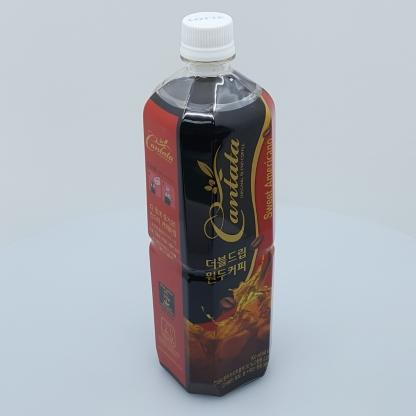-----------900ML: (143, 11, 275, 397)
